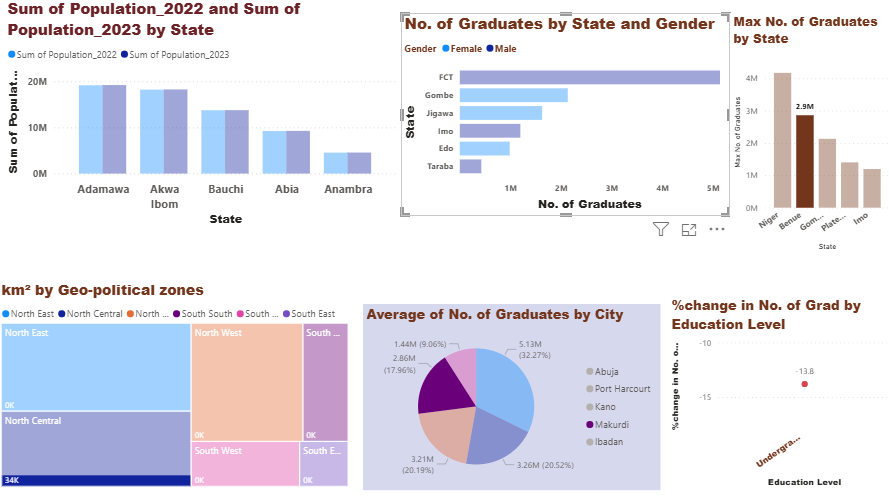

This screenshot's page, from the dashboard's own definition file:
{"tool":"powerbi","page":{"name":"VISUALS","canvas":[1280,720],"ordinal":0},"visuals":[{"type":"clusteredColumnChart","fields":{"Category":["student_population.State"],"Y":["Sum(student_population.Population_2022)","Sum(student_population.Population_2023)"]},"box":[8.9,0,566.9,332.2],"z":0},{"type":"barChart","fields":{"Category":["student_population.State"],"Series":["student_population.Gender"],"Y":["Sum(student_population.No. of Graduates)"]},"box":[575.3,22,470.7,289],"z":1000},{"type":"treemap","fields":{"Group":["Geo-political zone.Geo-political zones"],"Values":["Sum(Land mass.km²)"]},"box":[0,403.3,505.1,300],"z":2000},{"type":"pieChart","fields":{"Category":["student_population.City"],"Y":["Avg(student_population.No. of Graduates)"]},"box":[521.6,437.7,425.3,265.6],"z":3000},{"type":"lineChart","fields":{"Y":["Sum(student_population.%change in No. of Grad)"],"Category":["student_population.Education Level"]},"box":[956.6,423.9,323.4,280.8],"z":4000},{"type":"clusteredColumnChart","fields":{"Category":["Geo-political zone.State"],"Y":["Max(student_population.No. of Graduates)"]},"box":[1046,22,234,344.1],"z":5000},{"type":"textbox","box":[100,100,300,300],"z":5001},{"type":"textbox","box":[100,100,300,300],"z":5002}]}

Visuals, with their boxes in screenshot pixels (x1, y1, x2, y2), scaled from the page's 1280x720 canvas onto the 889x502 screenshot:
clusteredColumnChart - student_population.State x Sum(student_population.Population_2022): {"left": 6, "top": 0, "right": 400, "bottom": 232}
barChart - student_population.State x student_population.Gender: {"left": 400, "top": 15, "right": 726, "bottom": 217}
treemap - Geo-political zone.Geo-political zones x Sum(Land mass.km²): {"left": 0, "top": 281, "right": 351, "bottom": 490}
pieChart - student_population.City x Avg(student_population.No. of Graduates): {"left": 362, "top": 305, "right": 658, "bottom": 490}
lineChart - Sum(student_population.%change in No. of Grad) x student_population.Education Level: {"left": 664, "top": 296, "right": 888, "bottom": 491}
clusteredColumnChart - Geo-political zone.State x Max(student_population.No. of Graduates): {"left": 726, "top": 15, "right": 888, "bottom": 255}
textbox: {"left": 69, "top": 70, "right": 278, "bottom": 279}
textbox: {"left": 69, "top": 70, "right": 278, "bottom": 279}
